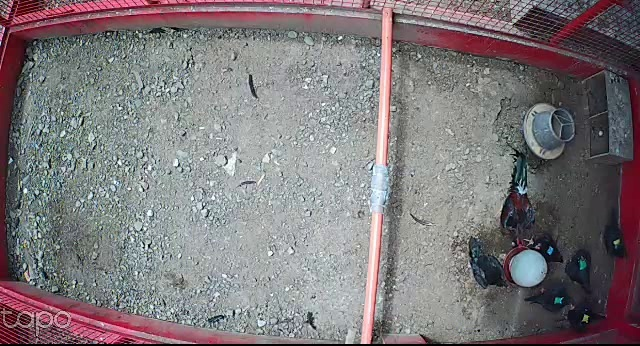Chicken: (461, 234, 509, 291), (521, 232, 568, 269), (558, 302, 610, 331), (525, 286, 577, 314), (566, 247, 592, 298), (599, 221, 627, 260)
Drinker: (500, 244, 549, 289)
Feeder: (521, 102, 576, 161)
Rooster: (496, 149, 541, 252)
Saddle_Color_Blue: (546, 246, 553, 256)
Saddle_Color_Yellow: (579, 313, 591, 323)
Saddle_Color_YellowGreen: (612, 238, 621, 248)
